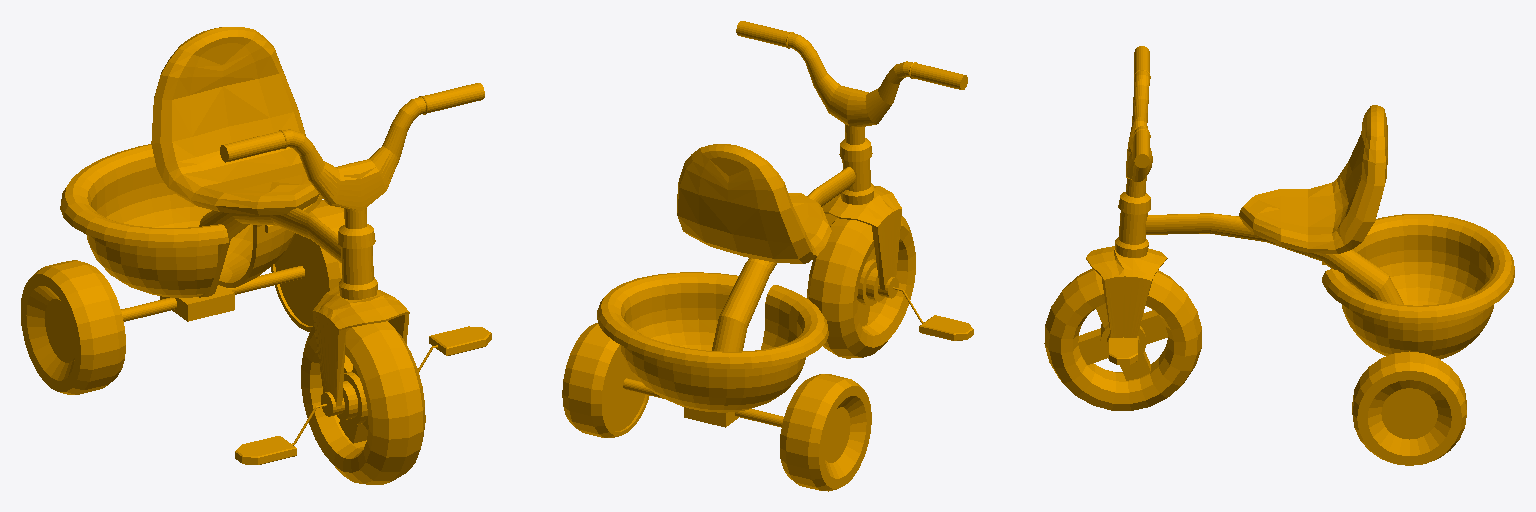
The robot description file, URDF, robot "none":
<robot name="none">
       <link name="none">
           <visual>
               <origin rpy="1.57 0 0" xyz="0 0 0" />
               <geometry>
                   <mesh filename="tricycle.obj" />
               </geometry>
           </visual>
          <collision>
              <geometry>
                  <box size="0.622960 0.723426 1.000000" />
              </geometry>
          </collision>

          <inertial>
            <mass value="0.0" />
            <inertia ixx="0.0" ixy="0.0" ixz="0.0" iyy="0.0" iyz="0.0" izz="0.0" />
          </inertial>
      </link>
  </robot>

--- Render facts (derived) ---
Views: 3 orthographic renders of the robot side by side, from view 1: azimuth 30°, elevation 25°; view 2: azimuth 150°, elevation 25°; view 3: azimuth 270°, elevation 25°.
Robot: none — 1 links, 0 joints (none); root link none; default pose: all joints at 0.
Visible links, largest first — view 1: none; view 2: none; view 3: none.
Link boxes in pixels (x1,y1,x2,y2): none: (21,27,491,484); none: (562,21,973,491); none: (1044,46,1514,465).
Bounding box of the posed robot: 0.623 × 1 × 0.7237 m (x, y, z).
1 mesh visuals loaded from 1 distinct referenced files (1 OBJ).